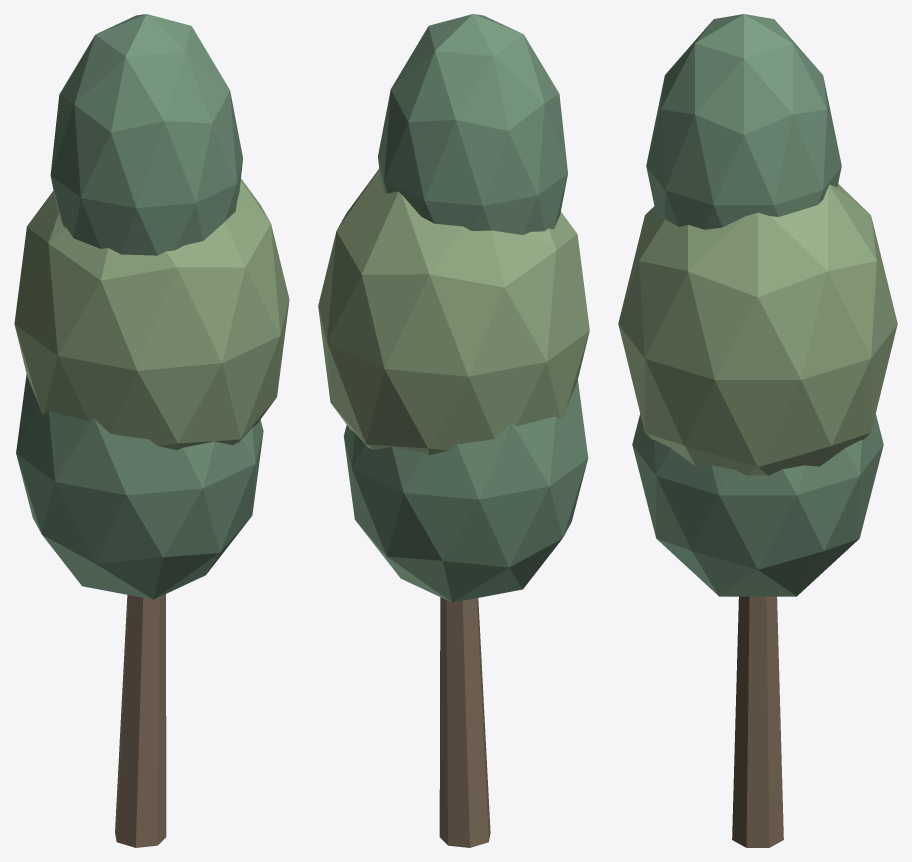
Rendered from tree-column.glb.
3 renders of one model, left to right at view 1: azimuth 30°, elevation 25°; view 2: azimuth 150°, elevation 25°; view 3: azimuth 270°, elevation 25°, orthographic.
Visible parts, largest first — view 1: CITY_tree_column; view 2: CITY_tree_column; view 3: CITY_tree_column.
Part boxes in pixels (box(x1,y1,x2,y2)): CITY_tree_column: box(14, 14, 289, 847); CITY_tree_column: box(318, 14, 589, 847); CITY_tree_column: box(618, 14, 897, 847).
Bounding box in the file's own units: 1.91 × 6.5 × 2.
